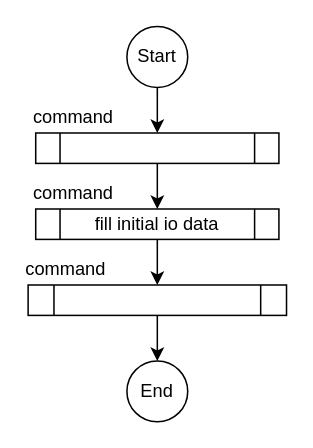
The diagram is 313 pixels wide and 448 high, and some of its shapes have lost their labels. Here are the shapes that lost their labels. From the top down, the centre of each, then its label:
the point at 156,147: notify client new round
the point at 157,299: send asset configuration
